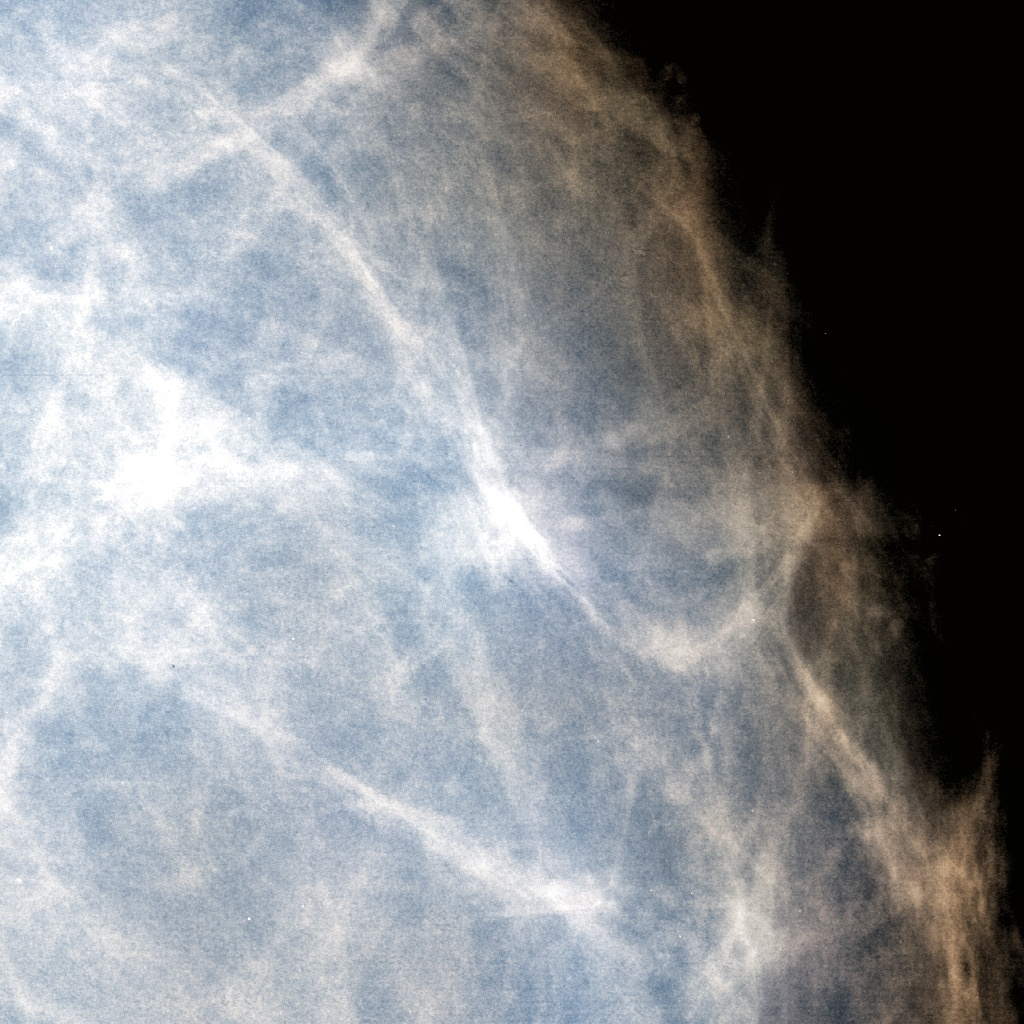tumor: (416, 407, 608, 617)
